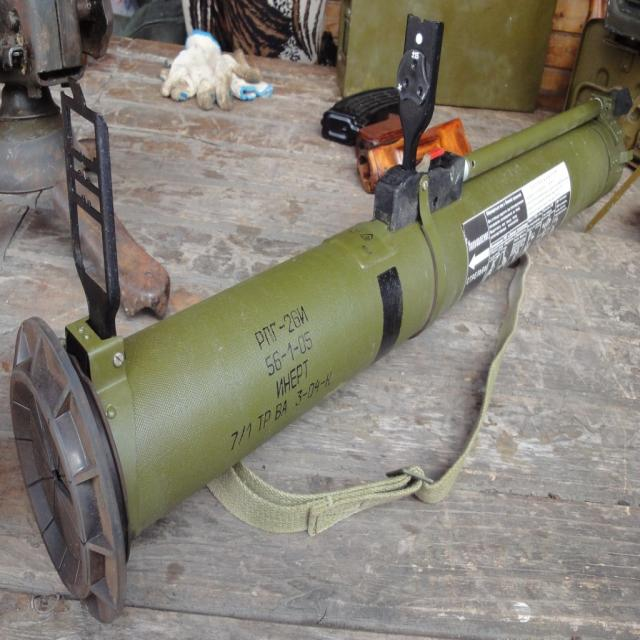rocket: (10, 10, 628, 624)
